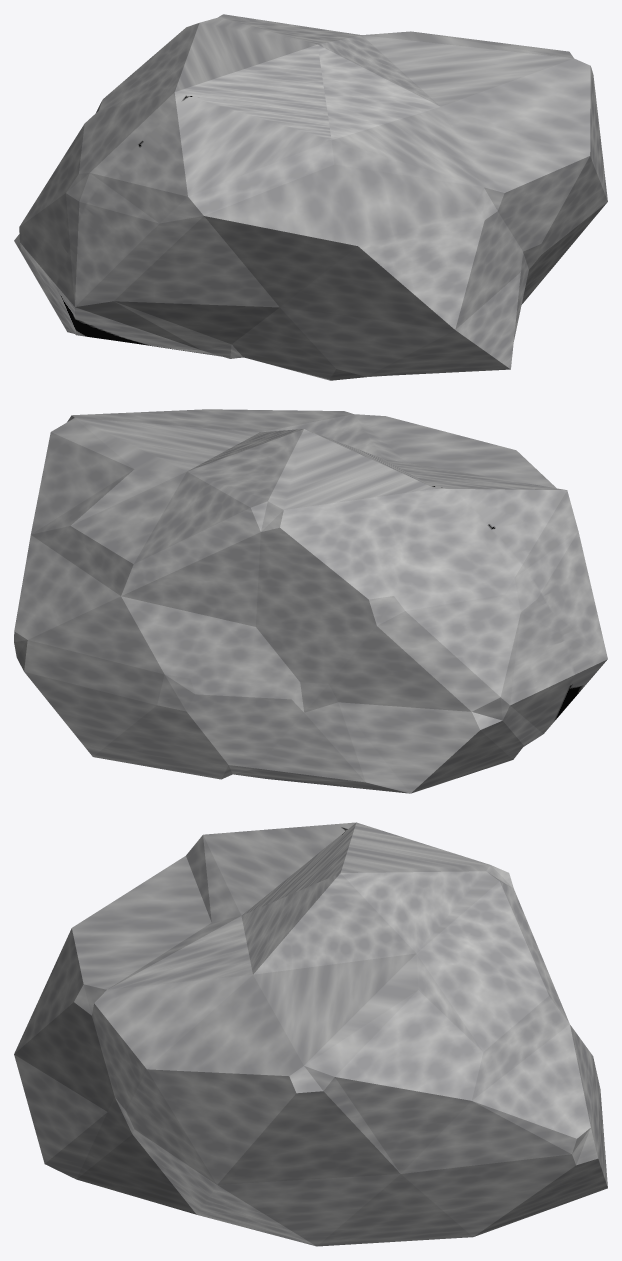
3 renders of one model, top to bottom at view 1: azimuth 30°, elevation 25°; view 2: azimuth 150°, elevation 25°; view 3: azimuth 270°, elevation 25°, orthographic. The views are drawn at different scales.
Visible parts, largest first — view 1: 바위_02; view 2: 바위_02; view 3: 바위_02.
Boxes of the visible parts, <box> form: 바위_02: <box>14,14,607,380</box>; 바위_02: <box>14,409,607,793</box>; 바위_02: <box>14,822,607,1246</box>.
Bounding box in the file's own units: 1653 × 764 × 1488.
Materials: 1 (1 with a texture image).
